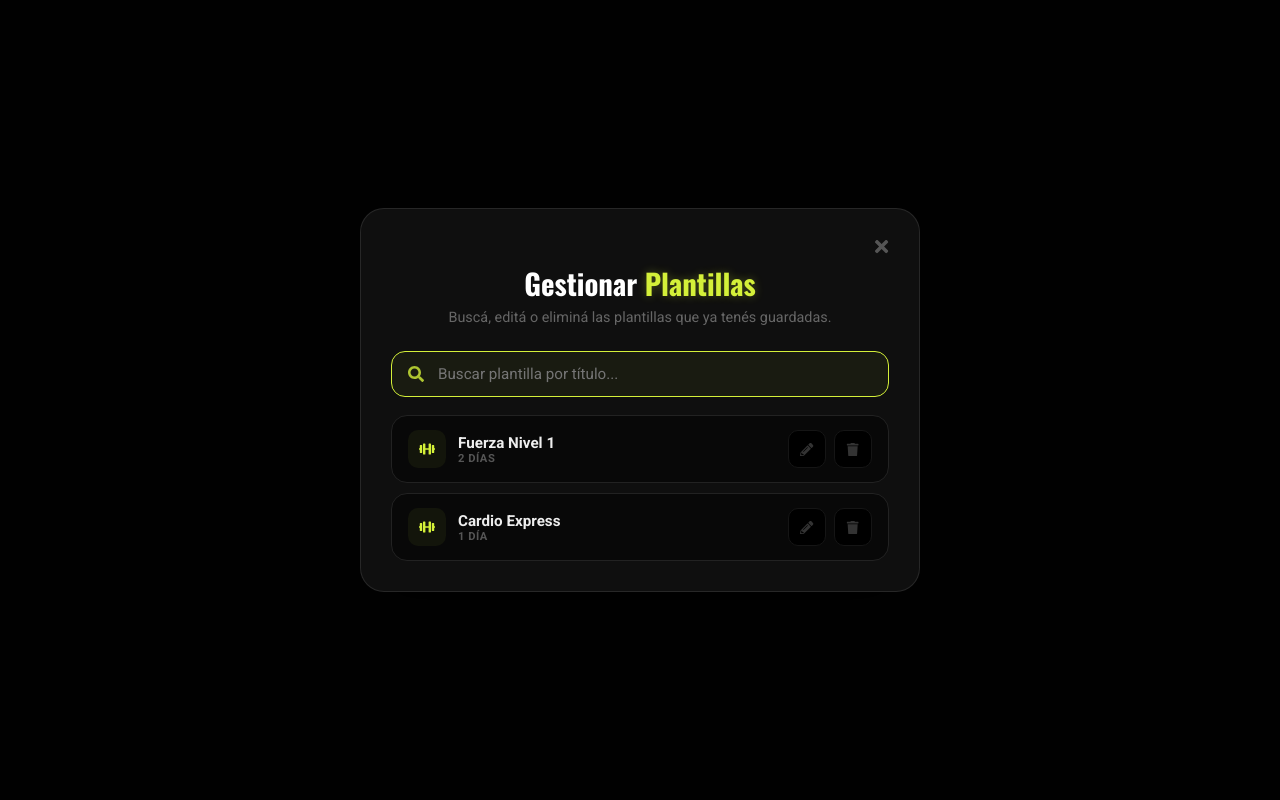
Test: PlantillasModal — render y búsqueda › borrar la búsqueda vuelve a mostrar todas las plantillas
This screenshot has width=1280, height=800.
Type "cardio" into the field with placeholder "Buscar plantilla por título..." at (654, 374), box [436,364,872,384]
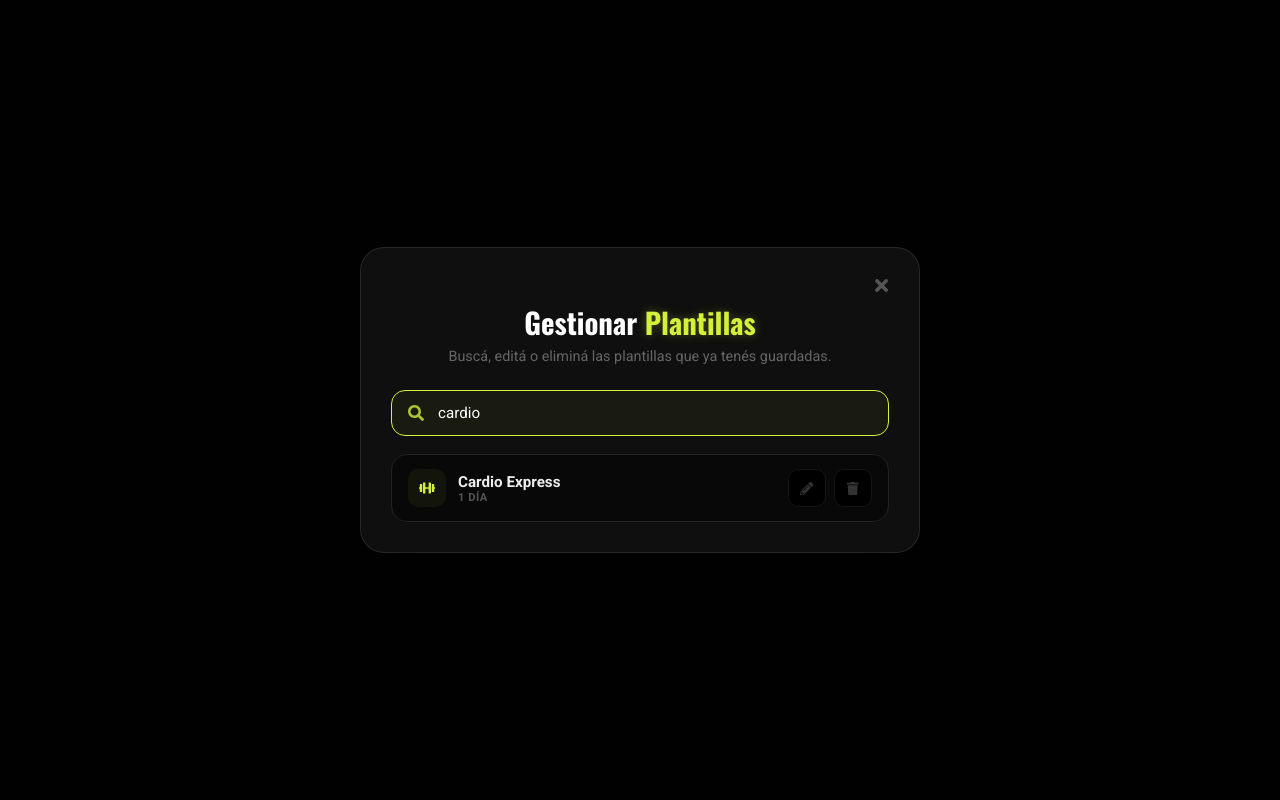
Clear the field with placeholder "Buscar plantilla por título..." at (654, 413), box [436,403,872,423]
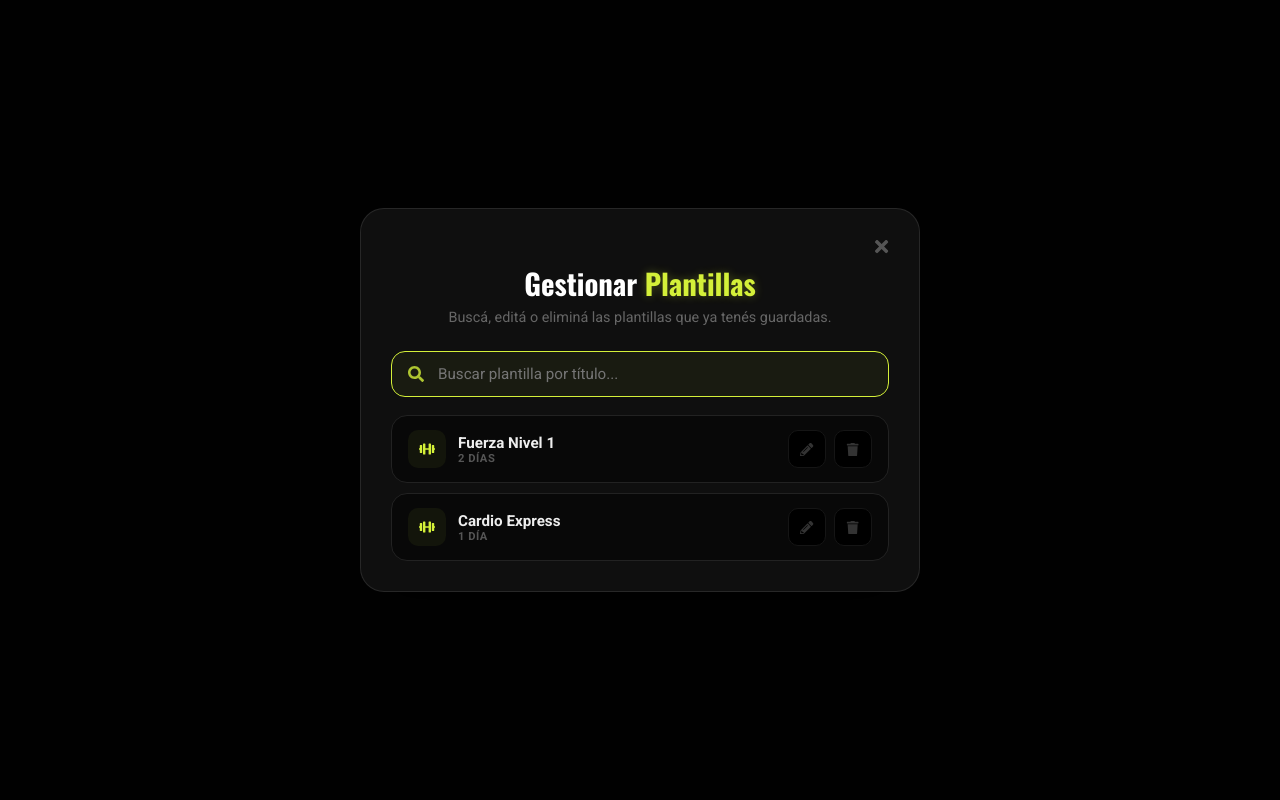
Expected: the text "Cardio Express" is shown, [458,512,560,530]
Expected: the text "Fuerza Nivel 1" is shown, [458,434,555,452]
